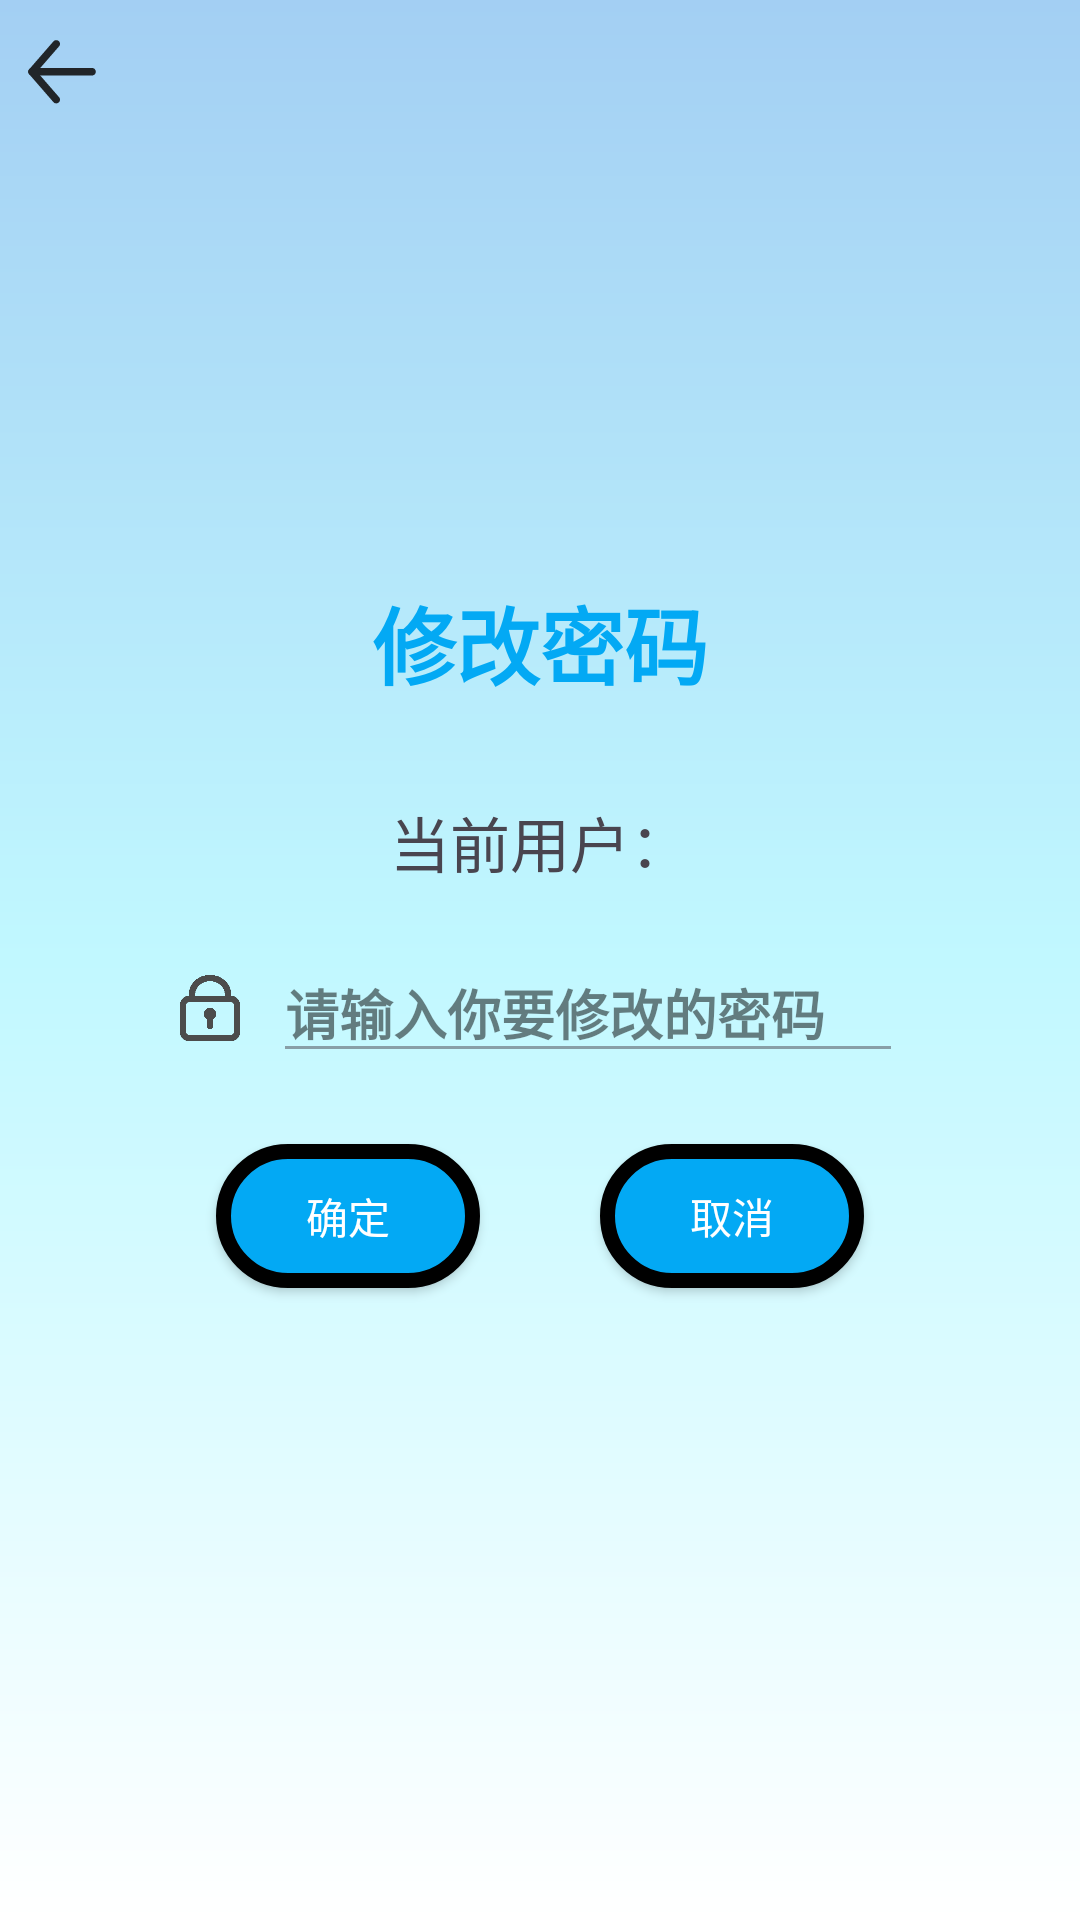

Where icons sit on this 1080w x 1920h app screen, as (x1, y1, x2, y2):
arrow left: (28, 40, 96, 104)
mima: (180, 975, 240, 1041)
